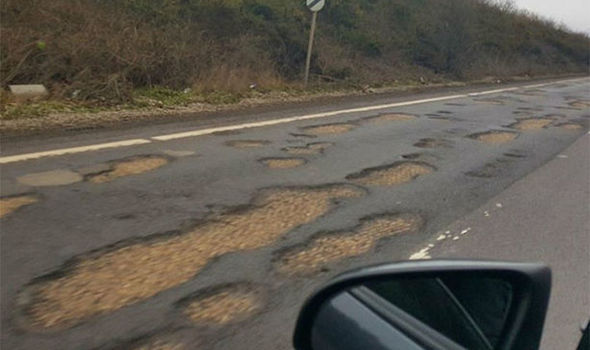pothole: (14, 197, 394, 331), (269, 216, 463, 277), (174, 235, 251, 340), (75, 145, 182, 199), (334, 150, 427, 193), (288, 118, 451, 135), (453, 114, 497, 159), (245, 149, 314, 177), (502, 109, 565, 137)
